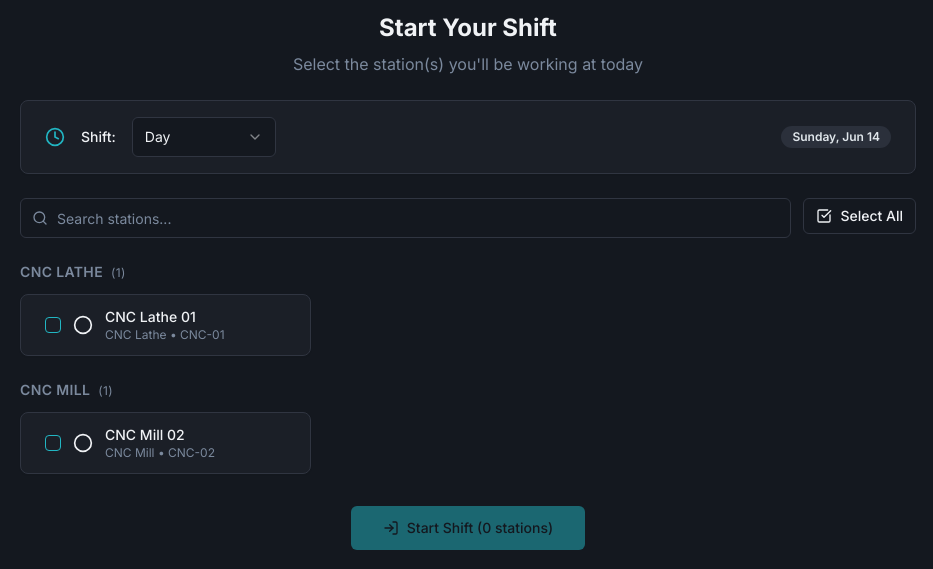
Test: StationCheckIn › shows no results message when search has no matches
The width and height of the screenshot is (933, 569).
Type "nonexistent" into the field with placeholder "Search stations..." at (406, 218), box [20,198,791,238]
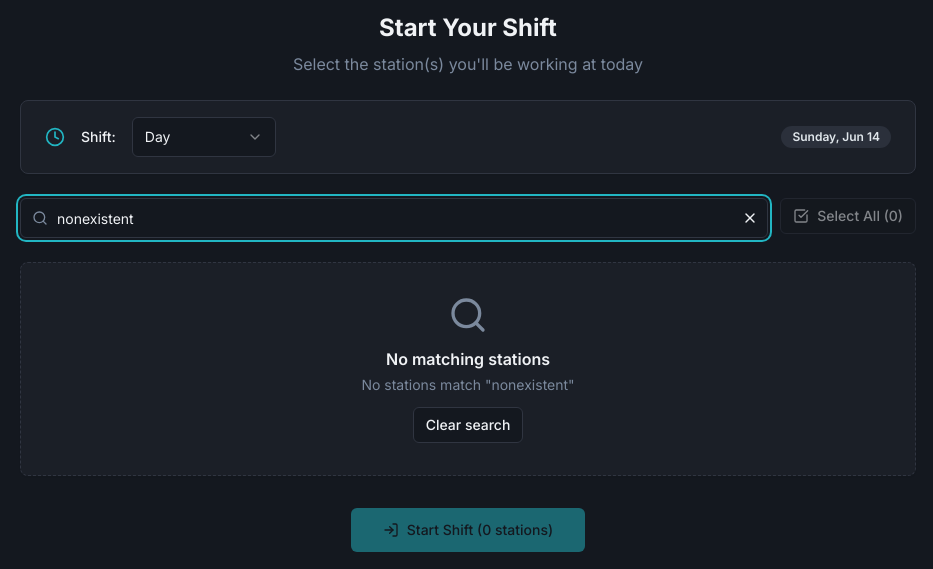
Expected: the heading "No matching stations" is shown, [386,347,550,371]
